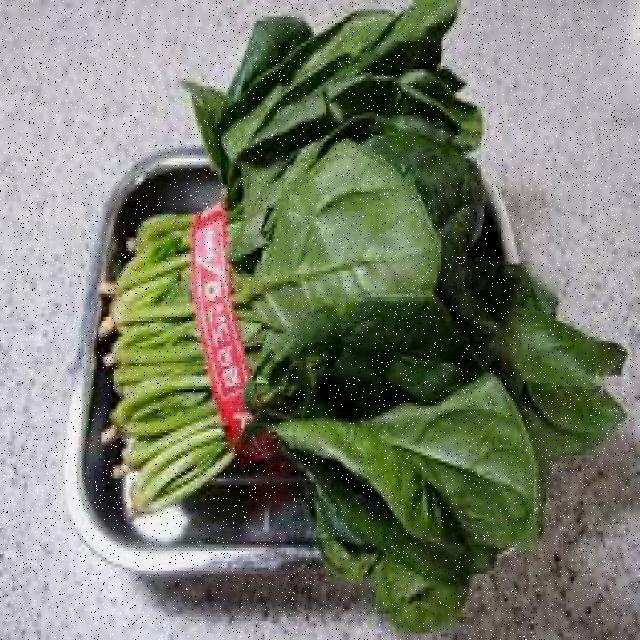Spinach: (71, 20, 623, 598)
